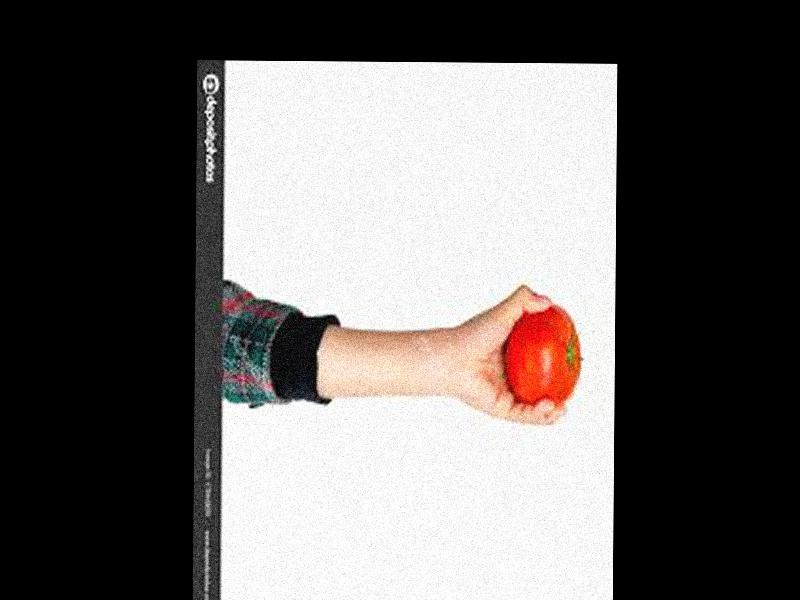Tomato: (503, 304, 584, 409)
